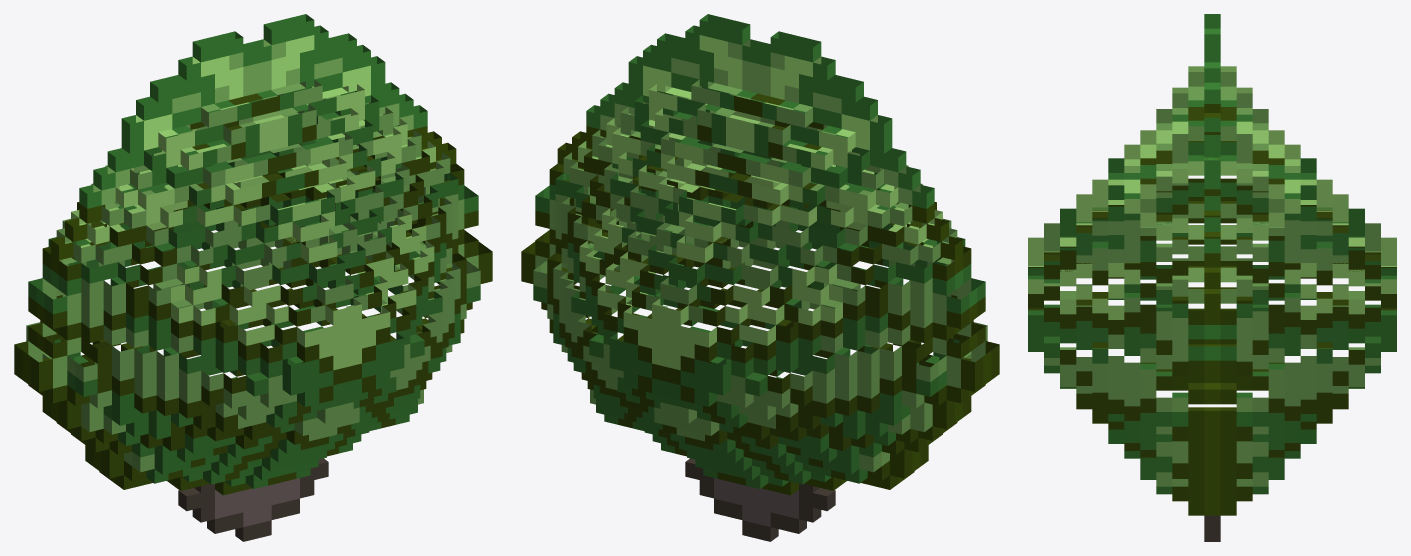
Rendered from tree_model (1).obj.
3 views of the same model, side by side, from view 1: azimuth 30°, elevation 25°; view 2: azimuth 150°, elevation 25°; view 3: azimuth 270°, elevation 25° (orthographic). The views are drawn at different scales.
Bounding box in the file's own units: 32 × 34 × 23.
